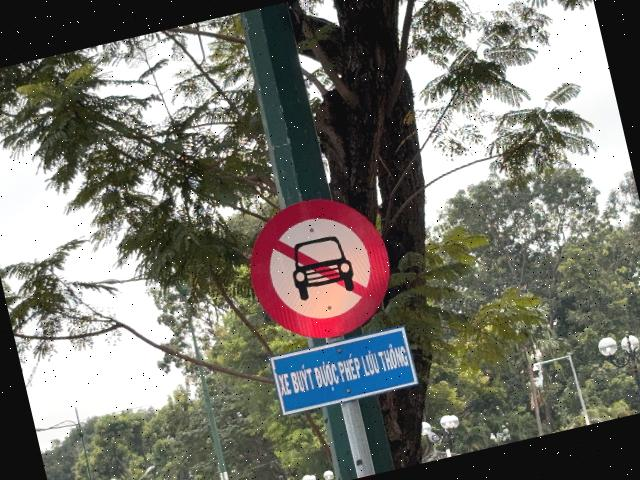cam-o-to: (235, 185, 402, 352)
